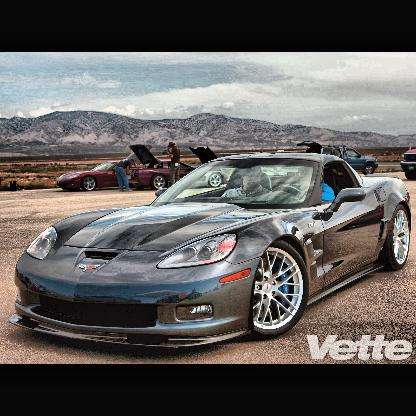Chevrolet Corvette ZR1 2012: (11, 151, 411, 359)
